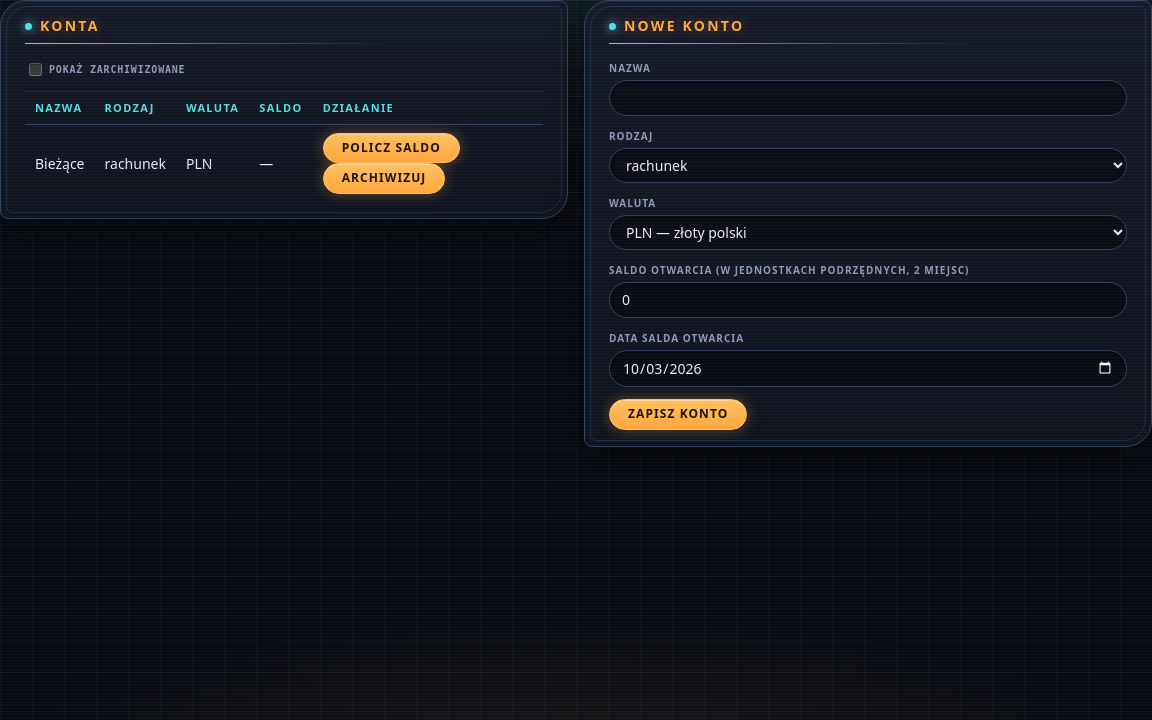
Scenario: KontaRoute › pusta nazwa zatrzymuje zapis i pokazuje komunikat przy polu
Expected: the cell "Bieżące" is shown, [25, 124, 94, 202]
Click the button "Zapisz konto" at (678, 415), box [609, 399, 747, 430]
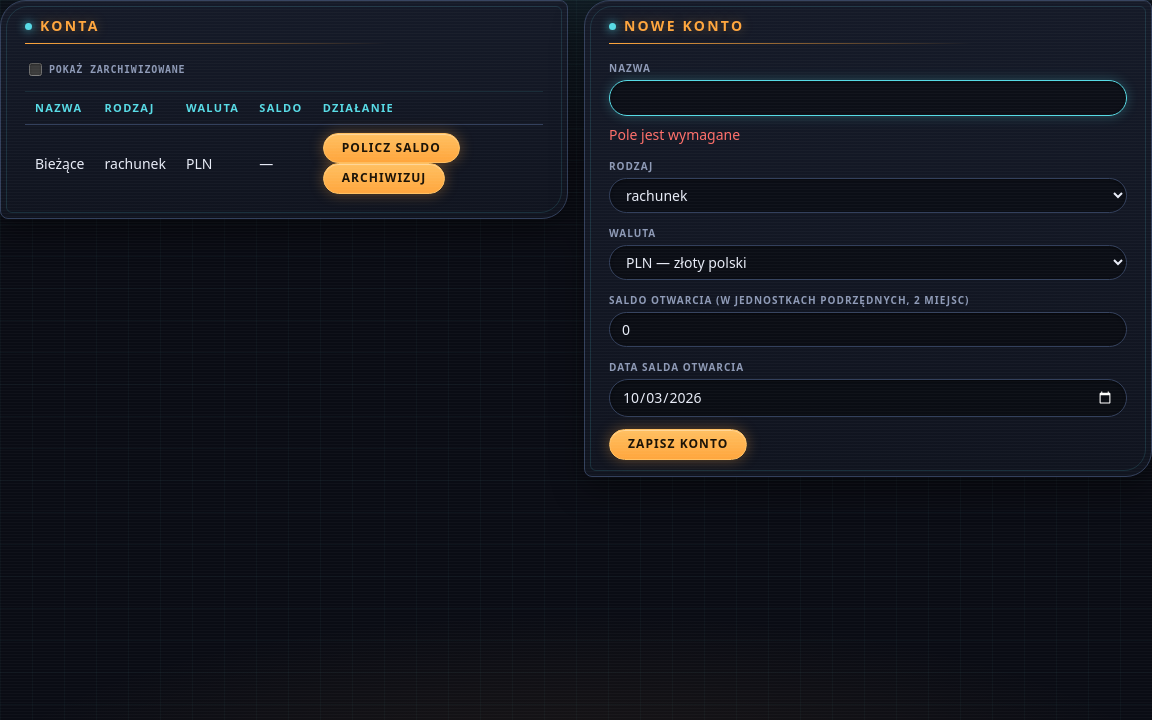
Expected: the message reads "Pole jest wymagane", [609, 125, 740, 144]
